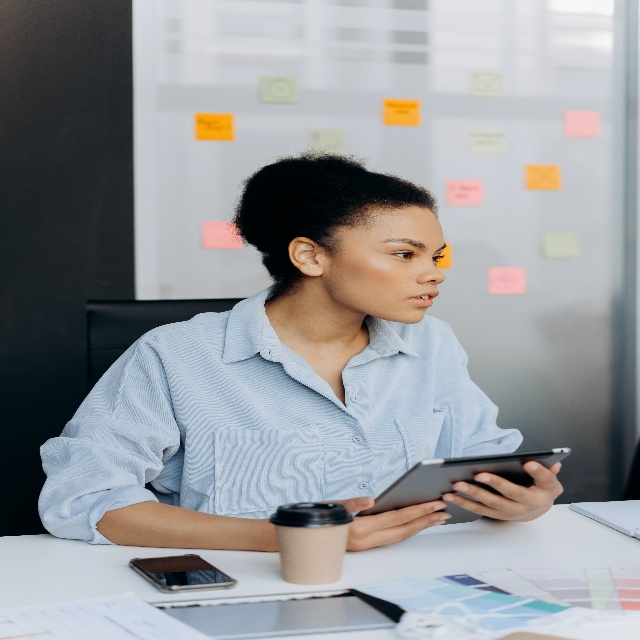Sin_guantes: (442, 460, 564, 522), (337, 494, 452, 552)
